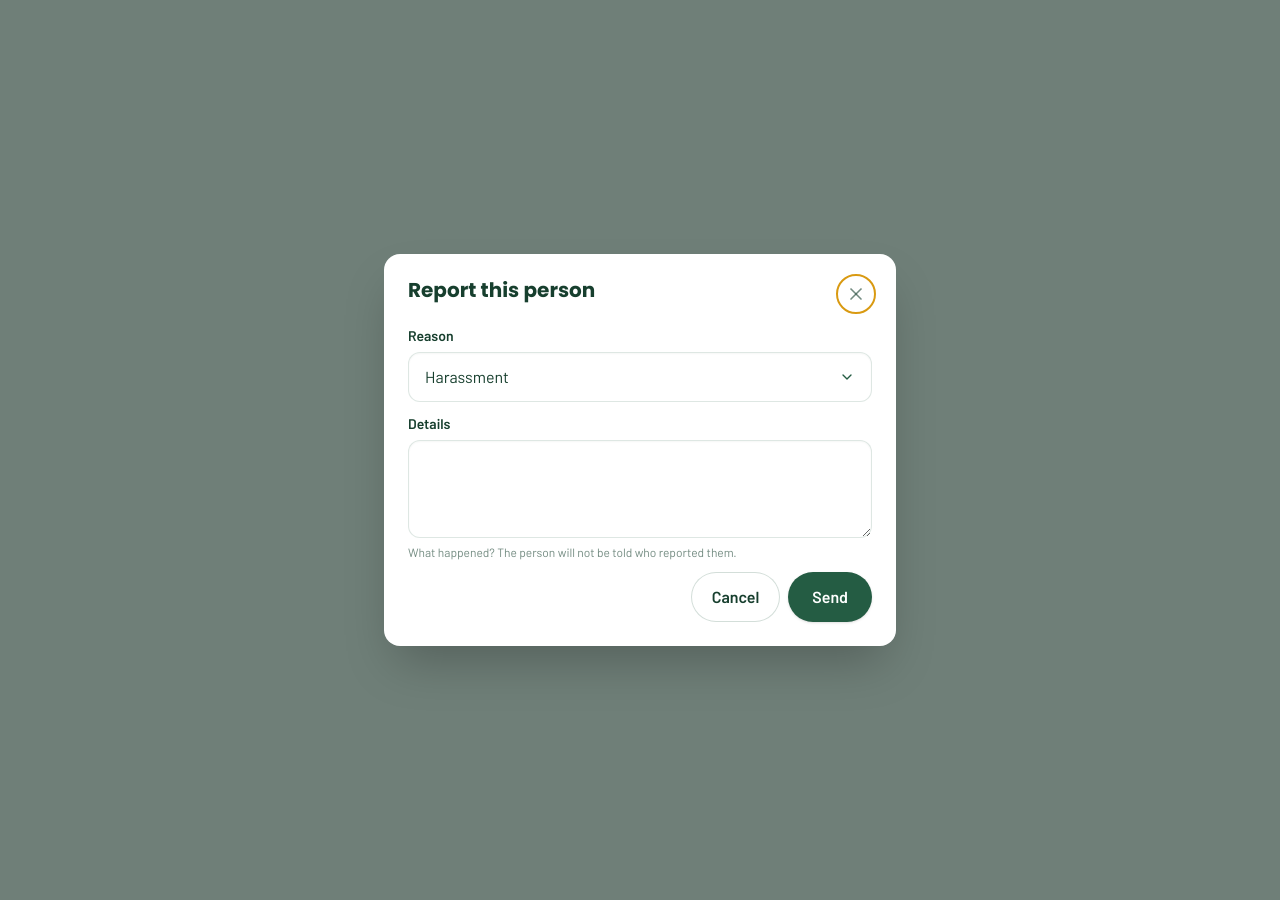
Scenario: Trip safety › a report is sent with its reason and details
Click the dropdown named "Reason" at (467, 377), box x1=408 y1=352 x2=872 y2=402
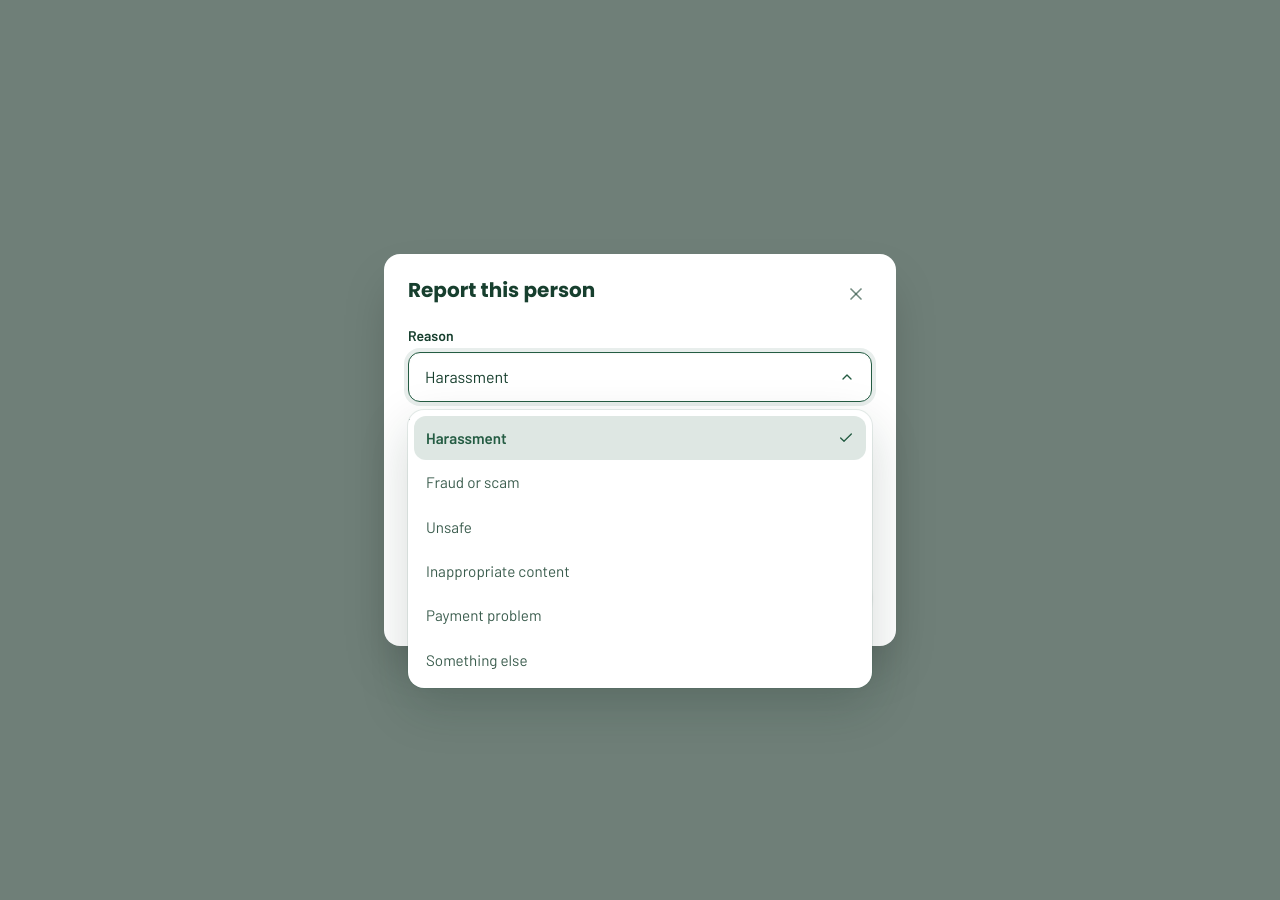
Click the option "Fraud or scam" at (473, 482), box x1=426 y1=473 x2=520 y2=491
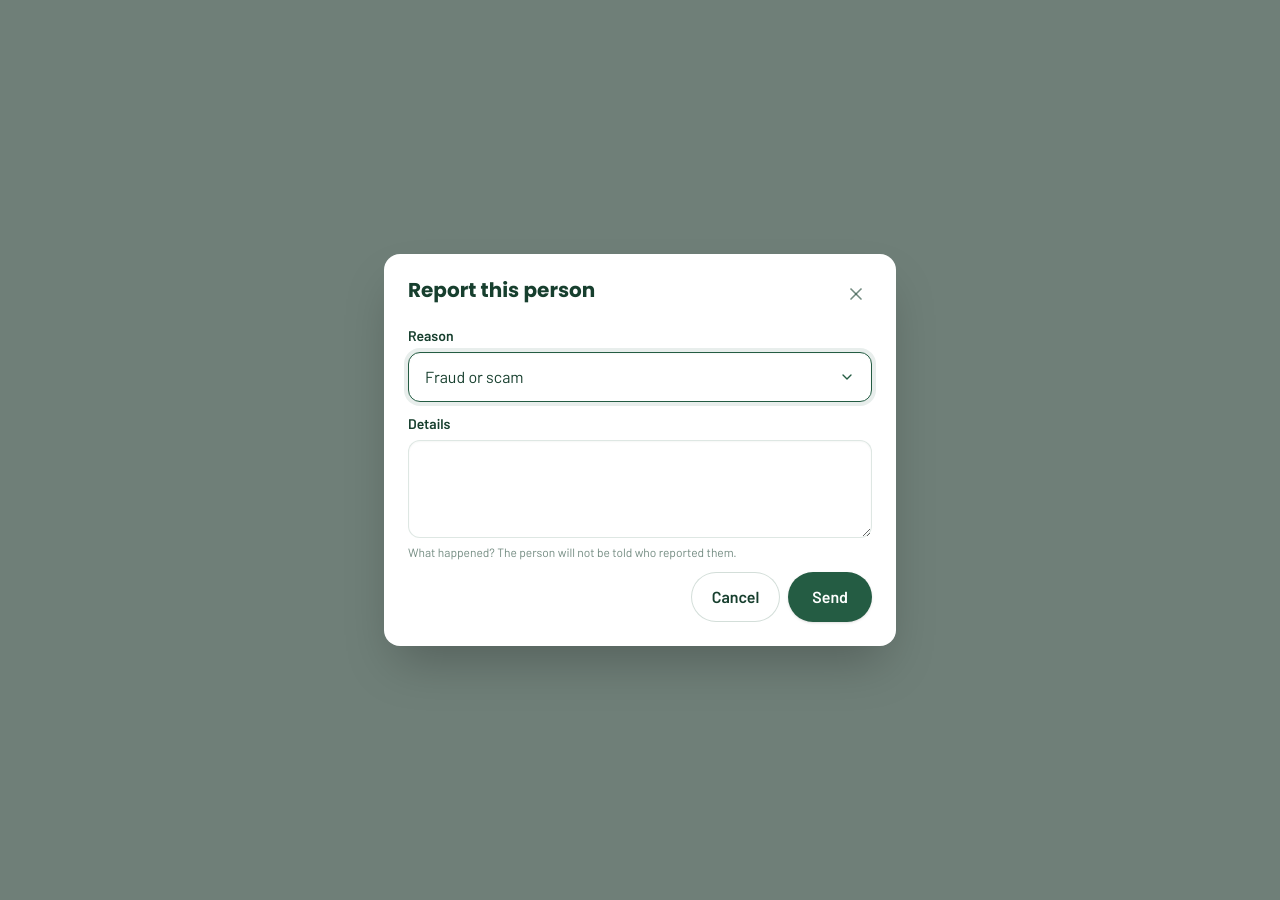
Type "Asked for money outside Ghurify." into the text box labelled "Details" at (640, 489), box x1=408 y1=440 x2=872 y2=538
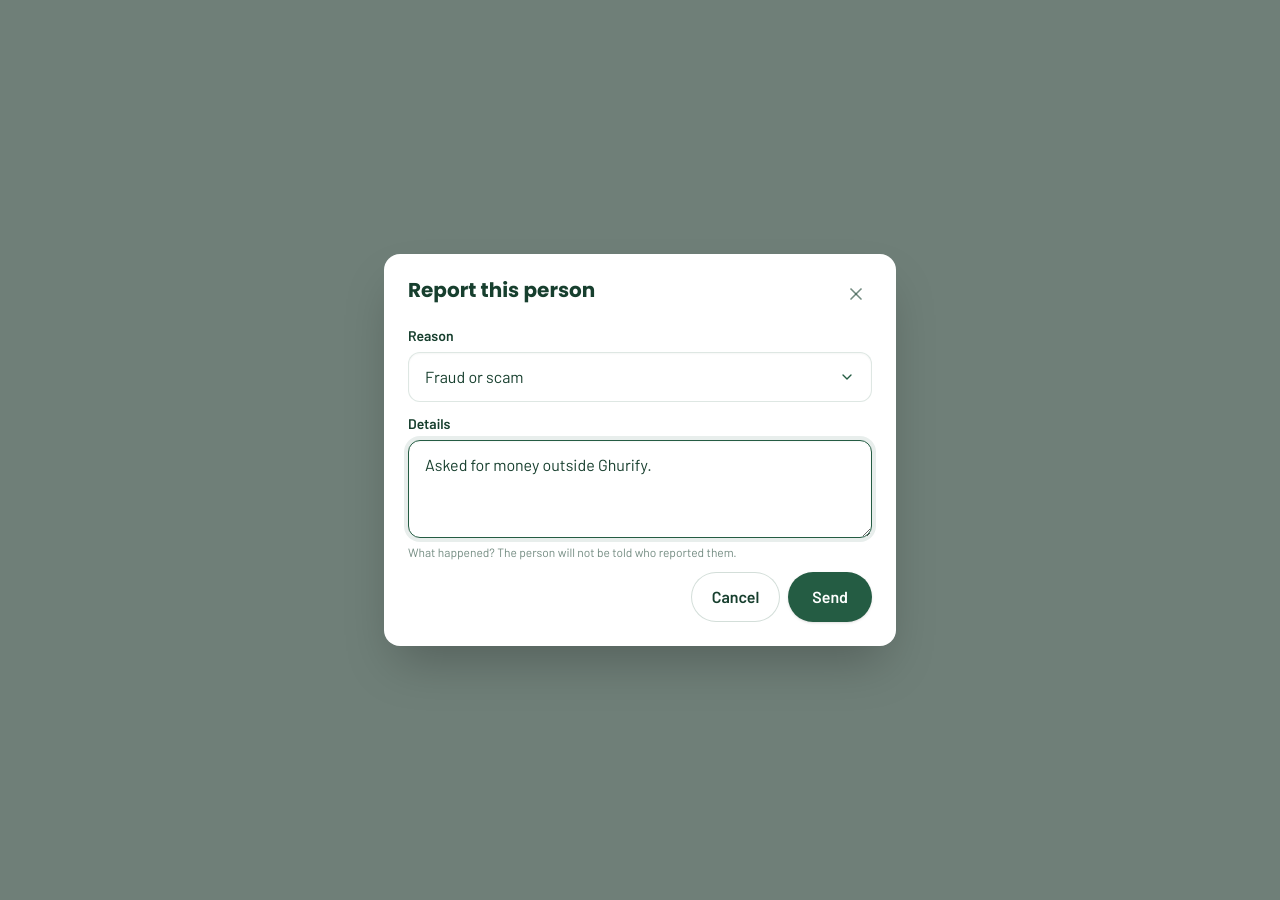
Click the button "Send" at (830, 597), box x1=788 y1=572 x2=872 y2=622
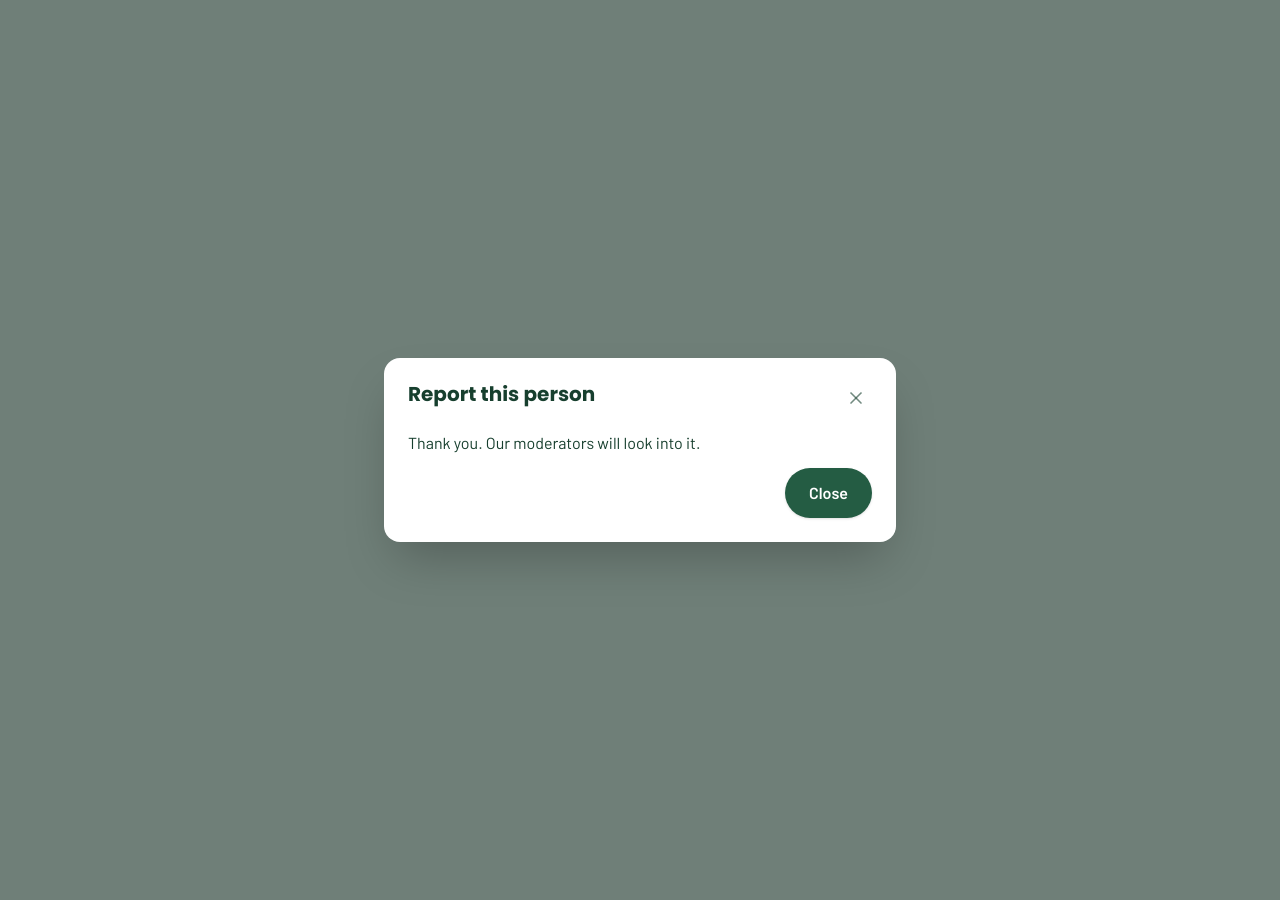
Check: the text "Thank you. Our moderators will look into it." is shown, box x1=408 y1=433 x2=700 y2=452
